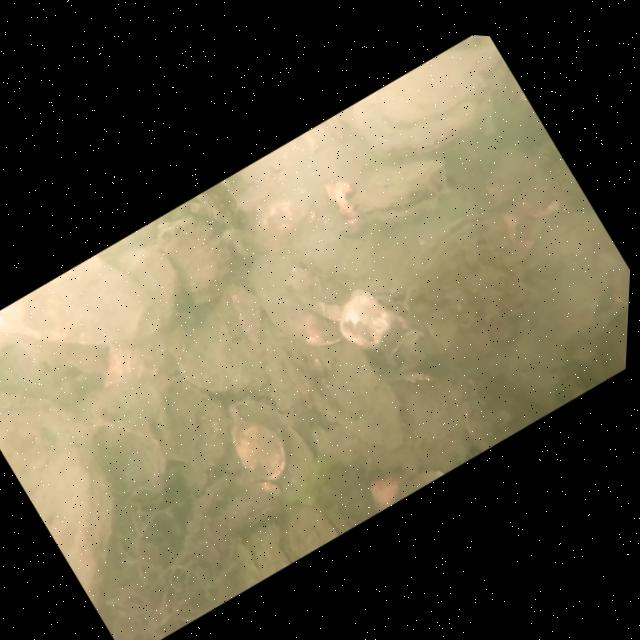Oyster-Closed: (0, 341, 180, 616), (335, 25, 531, 195), (140, 195, 251, 315)
Oyster-Indeterminate: (304, 347, 497, 529), (43, 224, 228, 413), (0, 231, 172, 416), (259, 290, 424, 478), (235, 227, 363, 369), (158, 290, 290, 427), (128, 352, 249, 486), (324, 271, 419, 370), (219, 406, 298, 492), (274, 490, 343, 561)
Oyster-Open: (374, 189, 569, 388), (342, 130, 465, 249)
